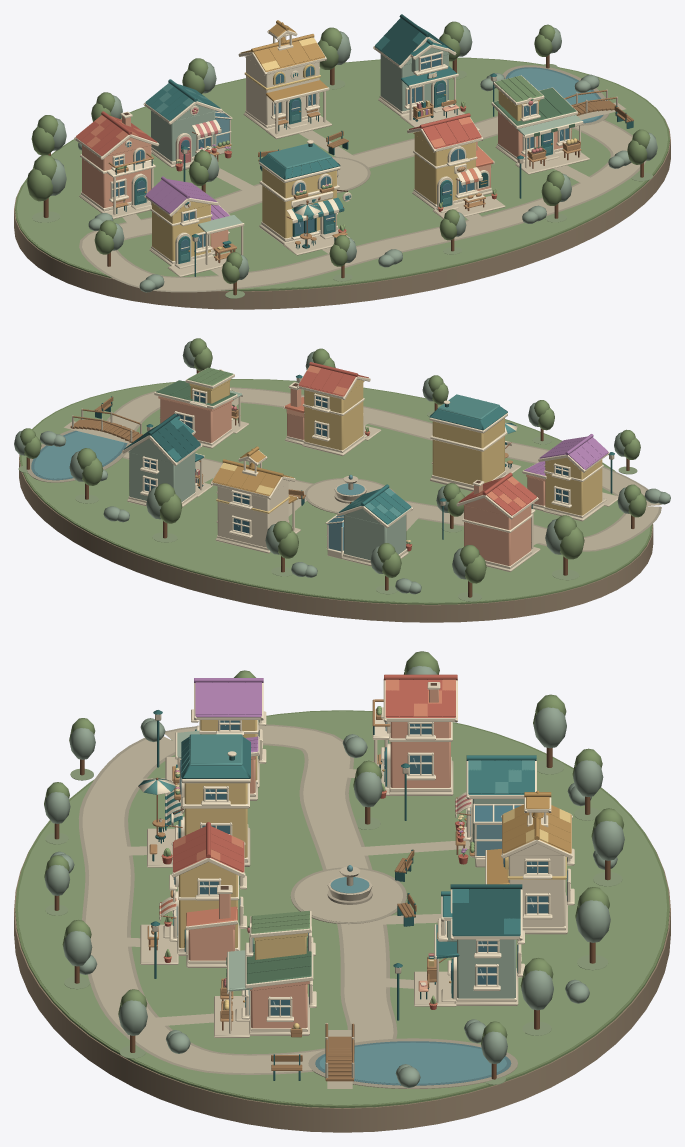
File: town_mature.glb
3 views of the same model, one above another, from view 1: azimuth 30°, elevation 25°; view 2: azimuth 150°, elevation 25°; view 3: azimuth 270°, elevation 25° (orthographic). The views are drawn at different scales.
Visible parts, largest first — view 1: town_environment_runtime, coffee • 3, hall • 3, bread • 3, books • 3, home • 3, craft • 3, market • 3, flowers • 3; view 2: town_environment_runtime, coffee • 3, bread • 3, hall • 3, home • 3, craft • 3, books • 3, flowers • 3, market • 3; view 3: town_environment_runtime, books • 3, bread • 3, market • 3, coffee • 3, home • 3, hall • 3, flowers • 3, craft • 3.
Boxes of the visible parts, bbox=[...] form: town_environment_runtime: bbox=[14, 21, 670, 309]; coffee • 3: bbox=[259, 140, 353, 255]; hall • 3: bbox=[238, 20, 332, 139]; bread • 3: bbox=[407, 113, 505, 218]; books • 3: bbox=[373, 14, 466, 127]; home • 3: bbox=[74, 111, 159, 219]; craft • 3: bbox=[144, 176, 244, 277]; market • 3: bbox=[491, 75, 589, 174]; flowers • 3: bbox=[143, 79, 232, 171]; town_environment_runtime: bbox=[14, 338, 670, 622]; coffee • 3: bbox=[429, 394, 520, 491]; bread • 3: bbox=[283, 362, 381, 456]; hall • 3: bbox=[210, 446, 300, 553]; home • 3: bbox=[456, 472, 540, 571]; craft • 3: bbox=[522, 434, 618, 521]; books • 3: bbox=[122, 413, 212, 507]; flowers • 3: bbox=[325, 484, 413, 566]; market • 3: bbox=[154, 367, 248, 448]; town_environment_runtime: bbox=[14, 651, 670, 1132]; books • 3: bbox=[414, 884, 524, 1009]; bread • 3: bbox=[140, 822, 246, 967]; market • 3: bbox=[214, 911, 316, 1037]; coffee • 3: bbox=[138, 734, 250, 867]; home • 3: bbox=[372, 674, 457, 798]; hall • 3: bbox=[485, 790, 574, 934]; flowers • 3: bbox=[455, 755, 536, 867]; craft • 3: bbox=[165, 678, 266, 800].
Bounding box in the file's own units: 37.2 × 6.64 × 26.
